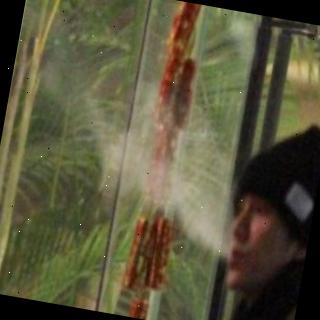smoke: (82, 104, 245, 251)
